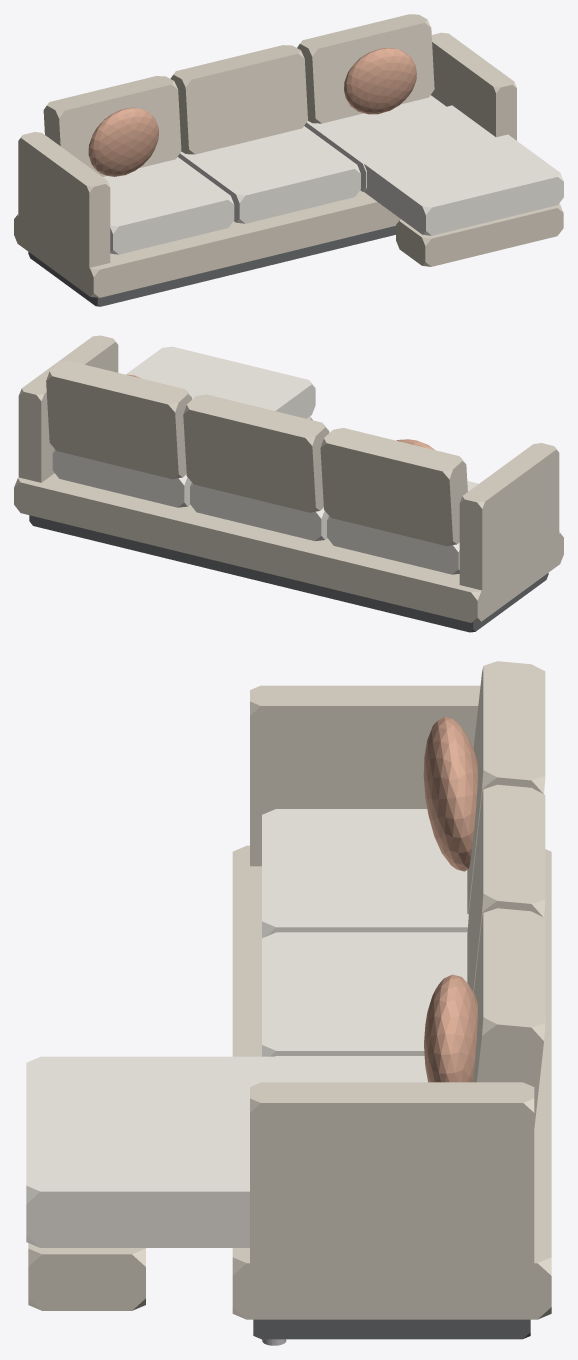
The model's file is sectional_sofa.glb.
The picture shows the model from 3 angles, top to bottom: view 1: azimuth 30°, elevation 25°; view 2: azimuth 150°, elevation 25°; view 3: azimuth 270°, elevation 25°; orthographic projection. The views are drawn at different scales.
Visible parts, largest first — view 1: FABRIC_LIGHT_chaise, FABRIC_MAIN_base, FABRIC_MAIN_back_1, FABRIC_LIGHT_seat_1, FABRIC_MAIN_arm_L, FABRIC_LIGHT_seat_0, FABRIC_MAIN_back_2, FABRIC_MAIN_back_0, FABRIC_MAIN_arm_R, FABRIC_LIGHT_seat_2, FABRIC_MAIN_chaise_base, FABRIC_ACCENT2_pillow_R (+2 smaller); view 2: FABRIC_MAIN_base, FABRIC_MAIN_back_0, FABRIC_MAIN_back_1, FABRIC_MAIN_back_2, FABRIC_MAIN_arm_L, FABRIC_LIGHT_chaise, DARK_shadow_plinth, FABRIC_MAIN_arm_R, FABRIC_LIGHT_seat_2, FABRIC_LIGHT_seat_1, FABRIC_LIGHT_seat_0; view 3: FABRIC_MAIN_arm_R, FABRIC_LIGHT_chaise, FABRIC_MAIN_base, FABRIC_MAIN_arm_L, FABRIC_LIGHT_seat_0, FABRIC_LIGHT_seat_1, FABRIC_MAIN_back_2, FABRIC_MAIN_back_1, FABRIC_MAIN_back_0, FABRIC_MAIN_chaise_base, FABRIC_ACCENT_pillow_L, DARK_shadow_plinth (+2 smaller).
Boxes of the visible parts, bbox=[...] form: FABRIC_LIGHT_chaise: bbox=[330, 105, 563, 235]; FABRIC_MAIN_base: bbox=[14, 190, 400, 297]; FABRIC_MAIN_back_1: bbox=[170, 45, 307, 154]; FABRIC_LIGHT_seat_1: bbox=[178, 126, 360, 223]; FABRIC_MAIN_arm_L: bbox=[18, 132, 110, 277]; FABRIC_LIGHT_seat_0: bbox=[103, 157, 234, 254]; FABRIC_MAIN_back_2: bbox=[297, 14, 434, 123]; FABRIC_MAIN_back_0: bbox=[43, 76, 181, 176]; FABRIC_MAIN_arm_R: bbox=[431, 32, 516, 140]; FABRIC_LIGHT_seat_2: bbox=[304, 95, 483, 191]; FABRIC_MAIN_chaise_base: bbox=[396, 203, 563, 266]; FABRIC_ACCENT2_pillow_R: bbox=[344, 48, 416, 114]; FABRIC_MAIN_base: bbox=[14, 473, 563, 622]; FABRIC_MAIN_back_0: bbox=[320, 428, 467, 545]; FABRIC_MAIN_back_1: bbox=[183, 394, 329, 512]; FABRIC_MAIN_back_2: bbox=[46, 361, 191, 479]; FABRIC_MAIN_arm_L: bbox=[459, 443, 559, 594]; FABRIC_LIGHT_chaise: bbox=[126, 346, 315, 418]; DARK_shadow_plinth: bbox=[29, 515, 548, 632]; FABRIC_MAIN_arm_R: bbox=[18, 335, 118, 482]; FABRIC_LIGHT_seat_2: bbox=[52, 449, 191, 507]; FABRIC_LIGHT_seat_1: bbox=[190, 482, 328, 540]; FABRIC_LIGHT_seat_0: bbox=[327, 481, 478, 574]; FABRIC_MAIN_arm_R: bbox=[250, 1082, 534, 1291]; FABRIC_LIGHT_chaise: bbox=[26, 1056, 424, 1247]; FABRIC_MAIN_base: bbox=[232, 845, 551, 1319]; FABRIC_MAIN_arm_L: bbox=[250, 685, 480, 866]; FABRIC_LIGHT_seat_0: bbox=[262, 809, 468, 938]; FABRIC_LIGHT_seat_1: bbox=[262, 932, 467, 1056]; FABRIC_MAIN_back_2: bbox=[473, 908, 545, 1127]; FABRIC_MAIN_back_1: bbox=[467, 784, 545, 992]; FABRIC_MAIN_back_0: bbox=[467, 661, 545, 914]; FABRIC_MAIN_chaise_base: bbox=[28, 1243, 145, 1310]; FABRIC_ACCENT_pillow_L: bbox=[423, 716, 477, 871]; DARK_shadow_plinth: bbox=[253, 1319, 530, 1339].
Size of the model in its own units: 2.85 by 1.02 by 1.51.
